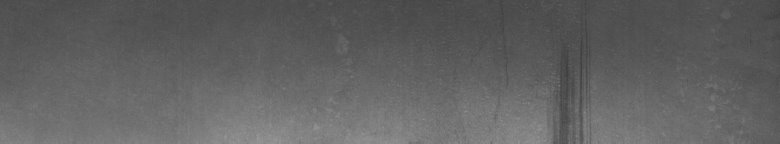ka: (544, 52, 591, 136)
